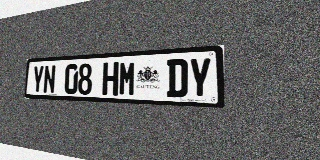0: (64, 64, 78, 94)
8: (77, 63, 93, 95)
D: (166, 58, 188, 98)
H: (102, 62, 119, 96)
M: (118, 61, 136, 96)
N: (43, 65, 56, 94)
Y: (188, 57, 211, 98), (32, 65, 44, 93)
